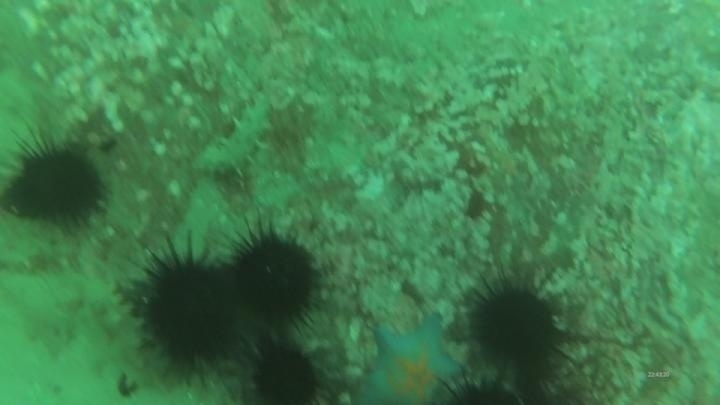echinus: (128, 239, 246, 375), (464, 271, 570, 374), (225, 223, 324, 331), (5, 134, 107, 230), (247, 340, 324, 405), (432, 367, 528, 405)
holothurian: (4, 265, 153, 377), (193, 95, 277, 181), (0, 208, 87, 277)
starfish: (355, 311, 467, 404)
